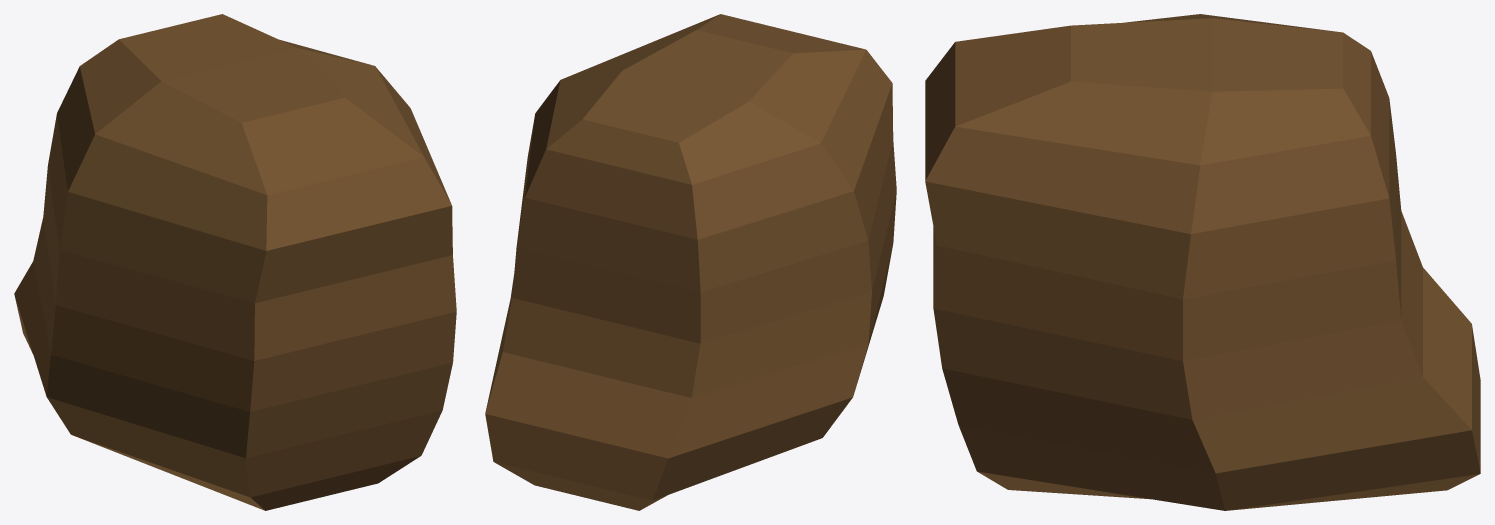
The model's file is pedra4.fbx.
3 views of the same model, side by side, from view 1: azimuth 30°, elevation 25°; view 2: azimuth 150°, elevation 25°; view 3: azimuth 270°, elevation 25° (orthographic). The views are drawn at different scales.
Visible parts, largest first — view 1: Cubo.004; view 2: Cubo.004; view 3: Cubo.004.
Part boxes in pixels (bbox=[...]): Cubo.004: bbox=[14, 14, 456, 510]; Cubo.004: bbox=[485, 14, 896, 510]; Cubo.004: bbox=[925, 14, 1480, 510].
Bounding box in the file's own units: 275 × 259 × 318.
